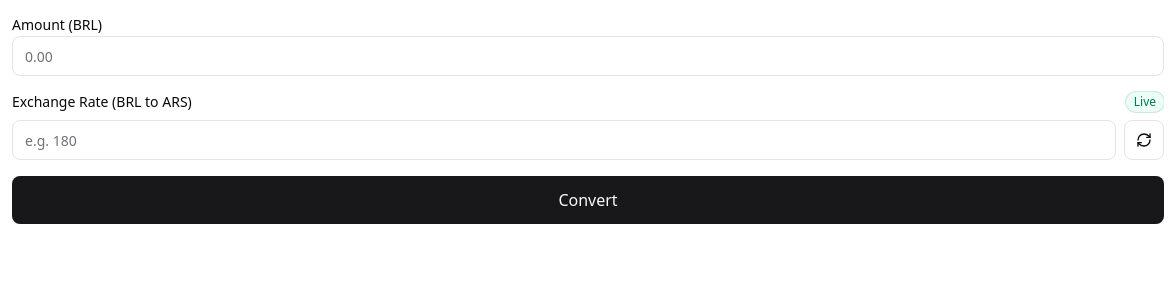
Scenario: ConverterForm › shows validation errors for invalid inputs
Click the button "Convert": [588, 200] box x1=12 y1=176 x2=1164 y2=224
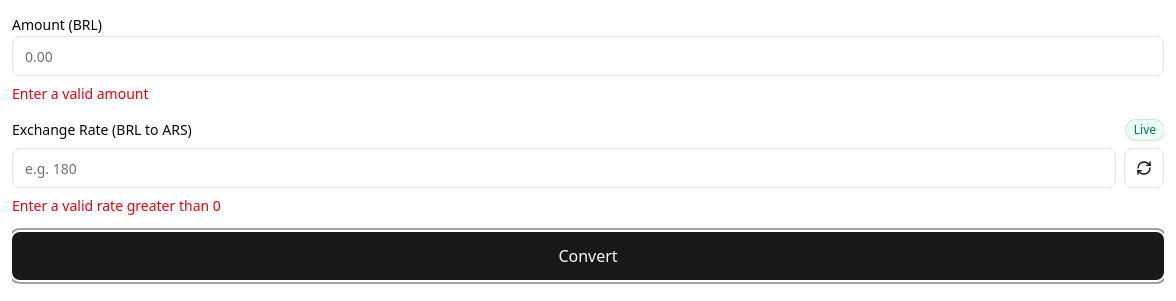
Expected: the text "Enter a valid amount" is shown, x1=12 y1=84 x2=148 y2=103
Expected: the text "Enter a valid rate greater than 0" is shown, x1=12 y1=196 x2=221 y2=215
